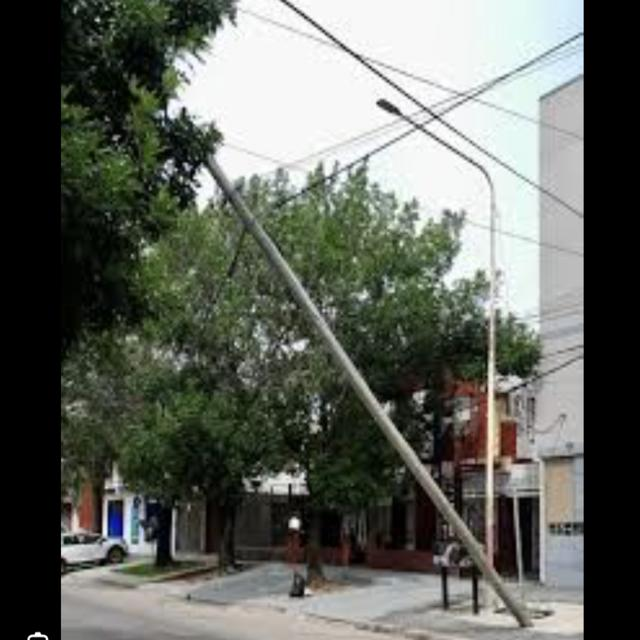Inclined Pole: (198, 144, 537, 622)
